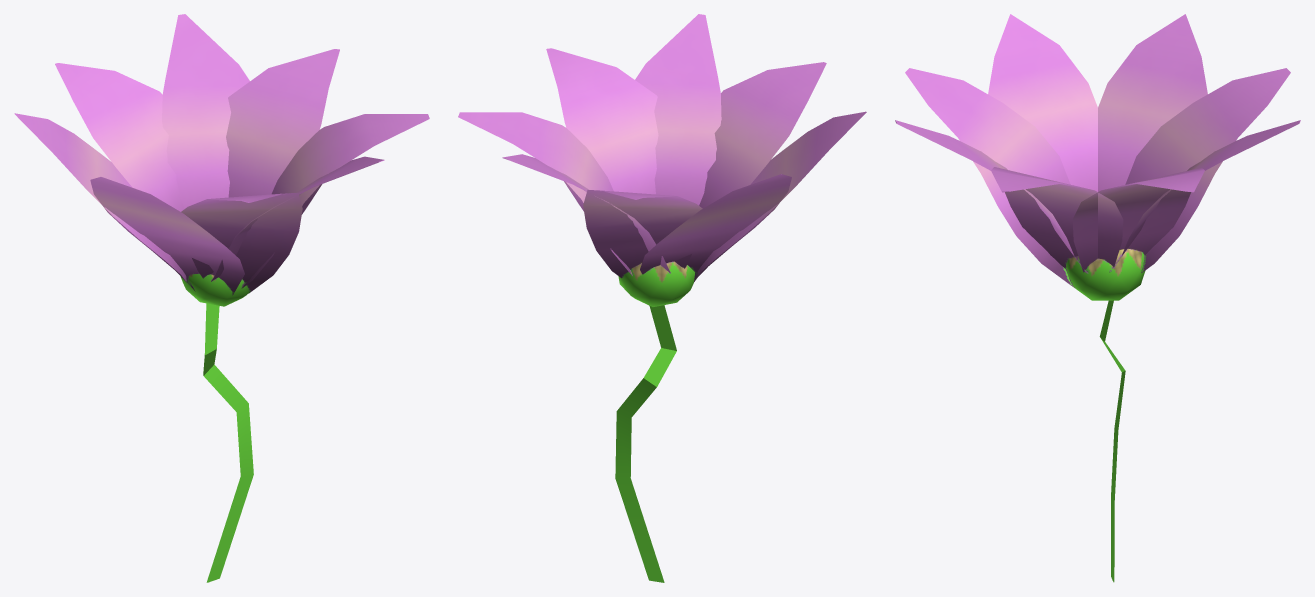
File: FoliageFlowerV1Low_textured.fbx
3 renders of one model, left to right at view 1: azimuth 30°, elevation 25°; view 2: azimuth 150°, elevation 25°; view 3: azimuth 270°, elevation 25°, orthographic. The views are drawn at different scales.
Visible parts, largest first — view 1: FoliageFlowerV1Low_textured; view 2: FoliageFlowerV1Low_textured; view 3: FoliageFlowerV1Low_textured.
Boxes of the visible parts, x1,y1,x2,y2 form: FoliageFlowerV1Low_textured: (14, 14, 429, 582); FoliageFlowerV1Low_textured: (458, 14, 866, 582); FoliageFlowerV1Low_textured: (895, 14, 1300, 582).
Bounding box in the file's own units: 139 × 197 × 148.
